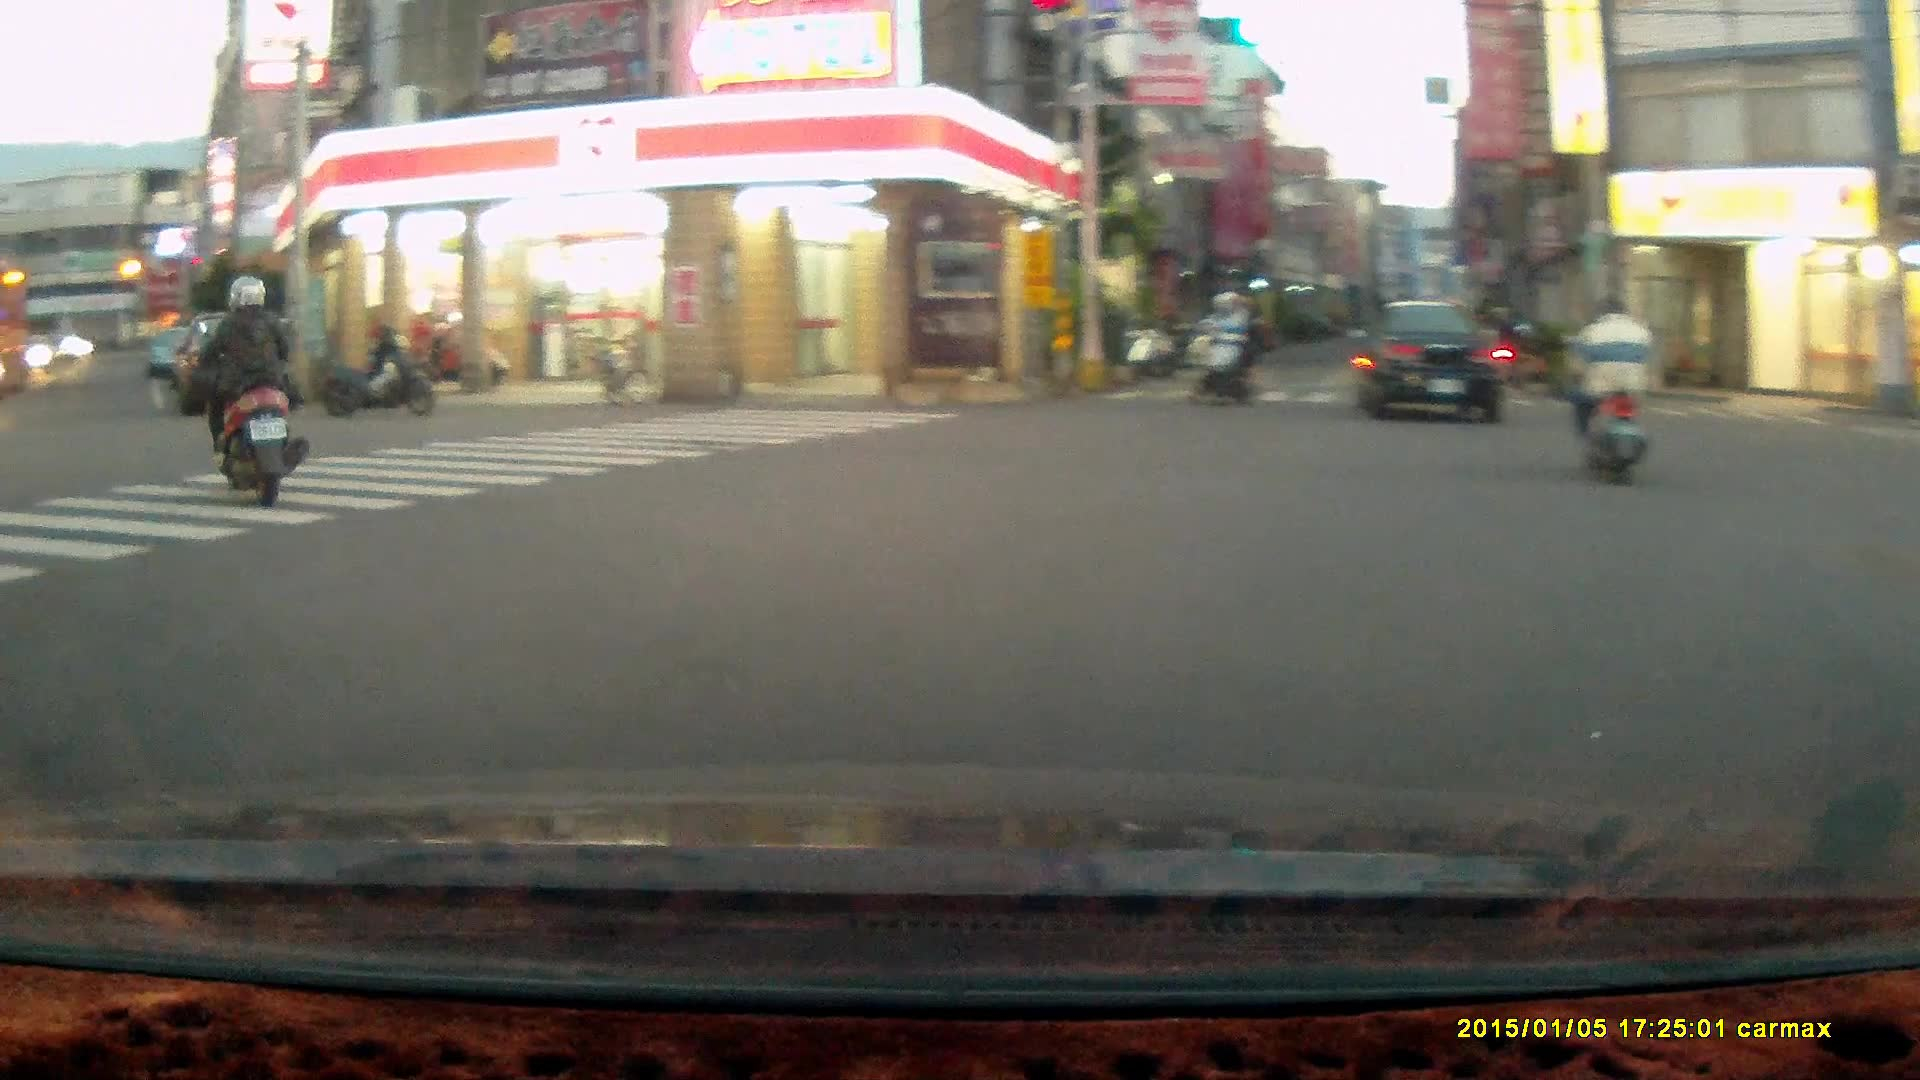rider: (195, 274, 309, 503), (1563, 291, 1657, 490), (1188, 286, 1257, 410)
vehicle: (1354, 299, 1512, 422), (171, 305, 302, 408)
